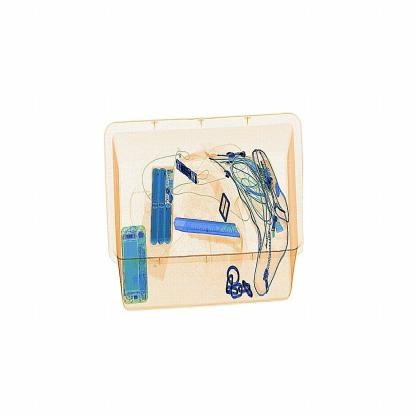pliers: (172, 214, 244, 243)
